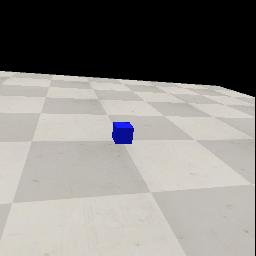box: (112, 122, 134, 144)
